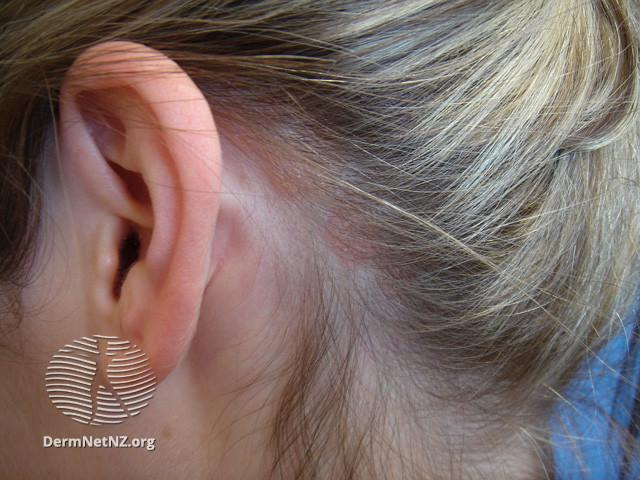Psoriasis: (217, 105, 402, 319)
